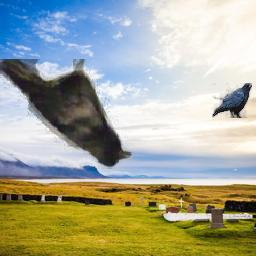Crow: (1, 59, 134, 169), (212, 84, 252, 119)
